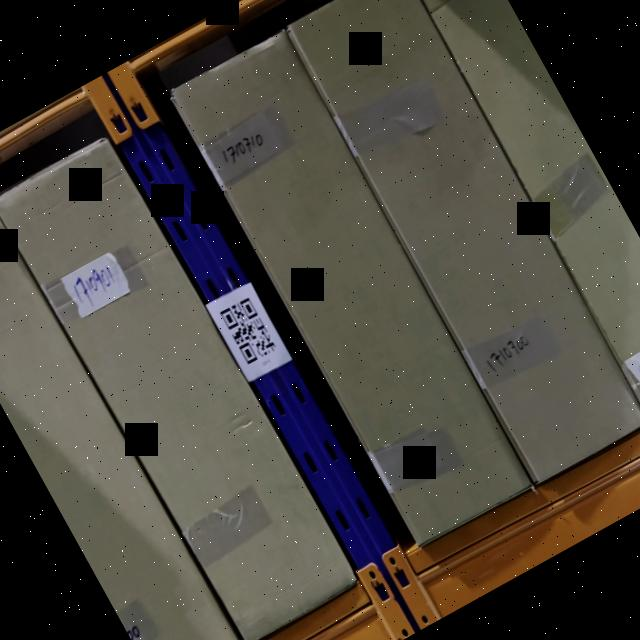box: (170, 34, 532, 547), (0, 137, 355, 640), (286, 0, 640, 482)
